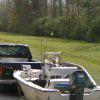Boat: (10, 57, 100, 100)
